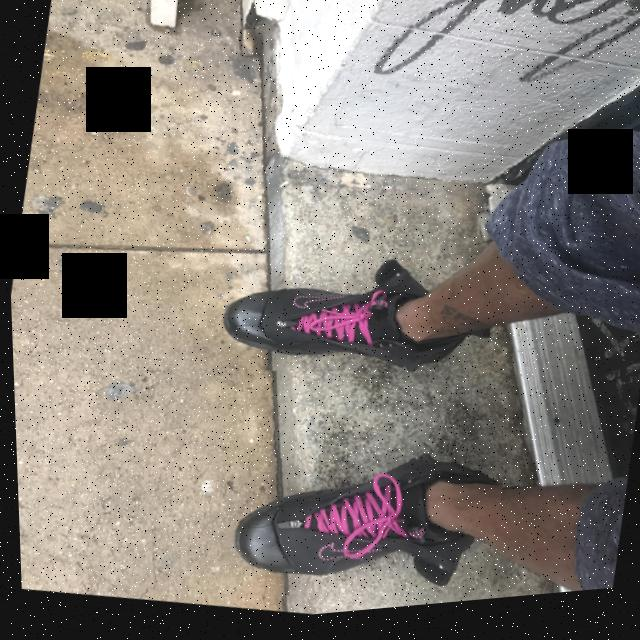shoe: (211, 407, 508, 626), (202, 212, 507, 417)
